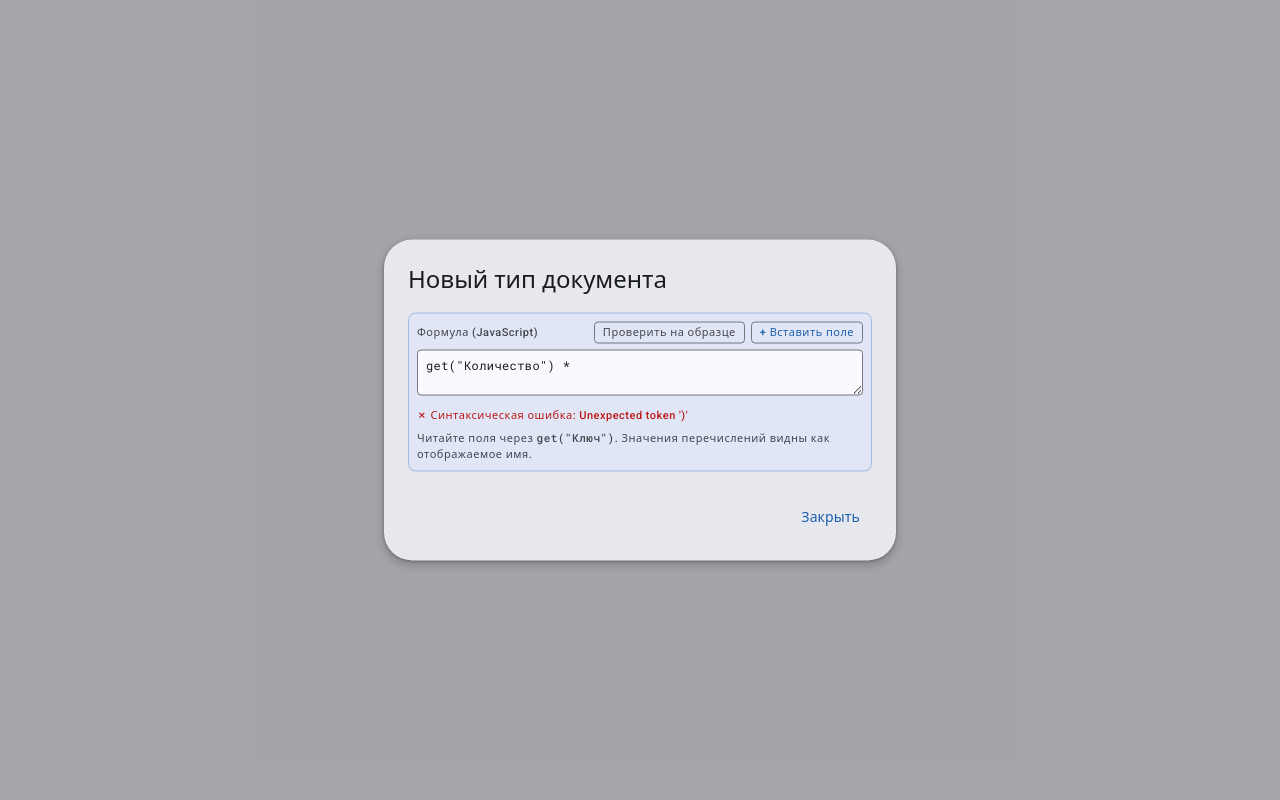
Test: ComputedFieldEditor: «+ Вставить поле» › список — в портале вне окна, фокус — в фильтре
Click the button "+ Вставить поле".
click(807, 332)  # box [751,322,863,344]
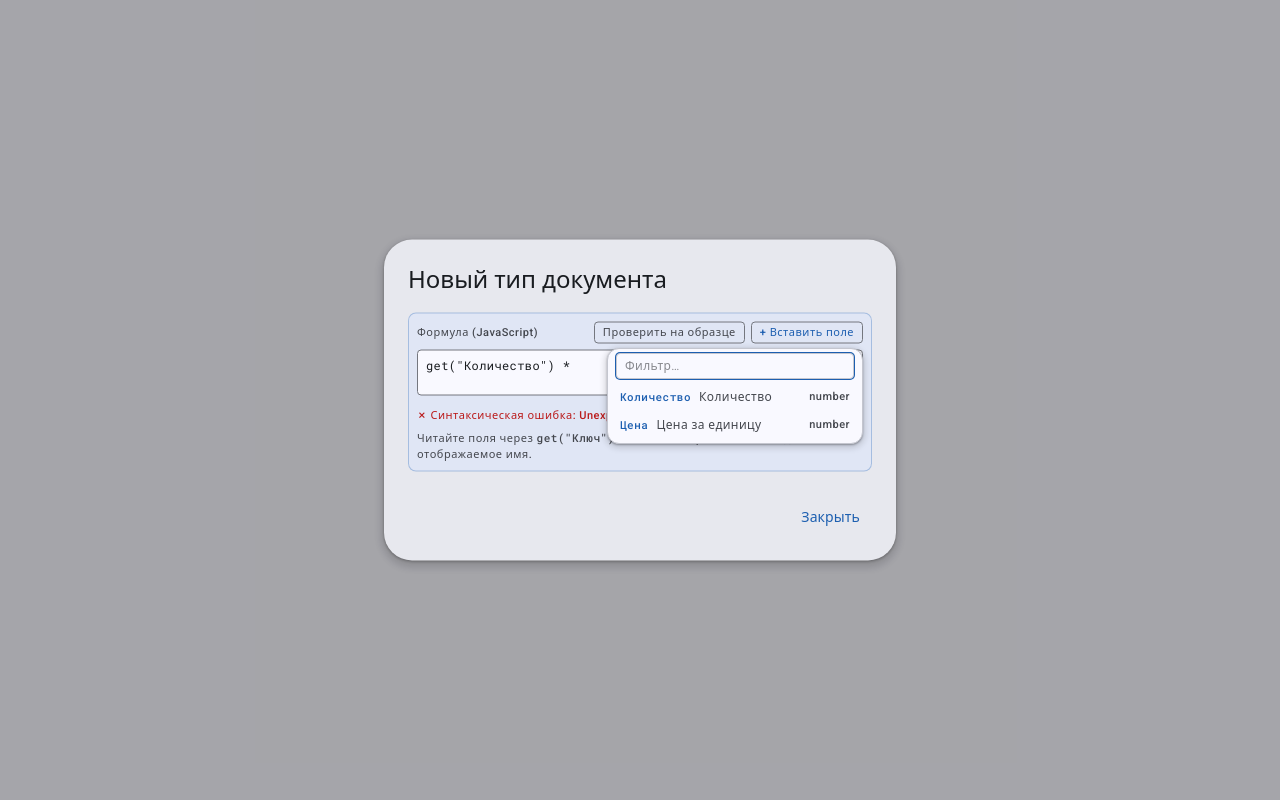
Expected: the dialog named "Вставить поле" is shown, [607,348,863,444]
